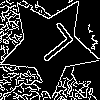L: (24, 20, 75, 71)
